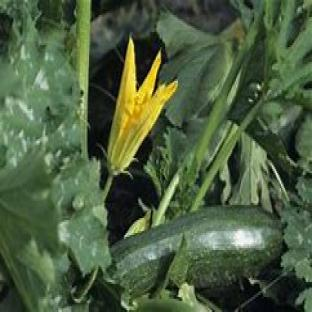Zucchini: (111, 207, 282, 296)
